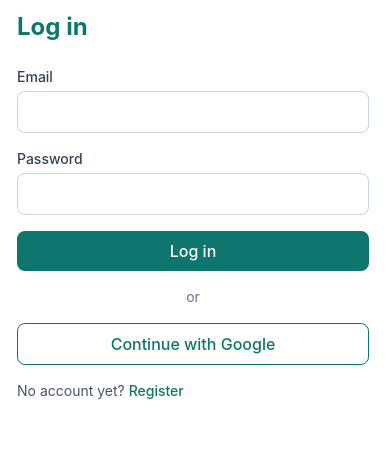
Test: Login page › shows errors and does not log in when the form is empty
Click the button "Log in": click(193, 251) [17,231,369,271]
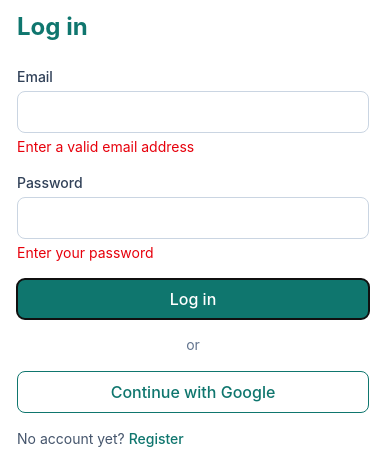
Check: the text "Enter a valid email address" is shown, box [17,138,194,155]
Check: the text "Enter your password" is shown, box [17,244,154,261]
